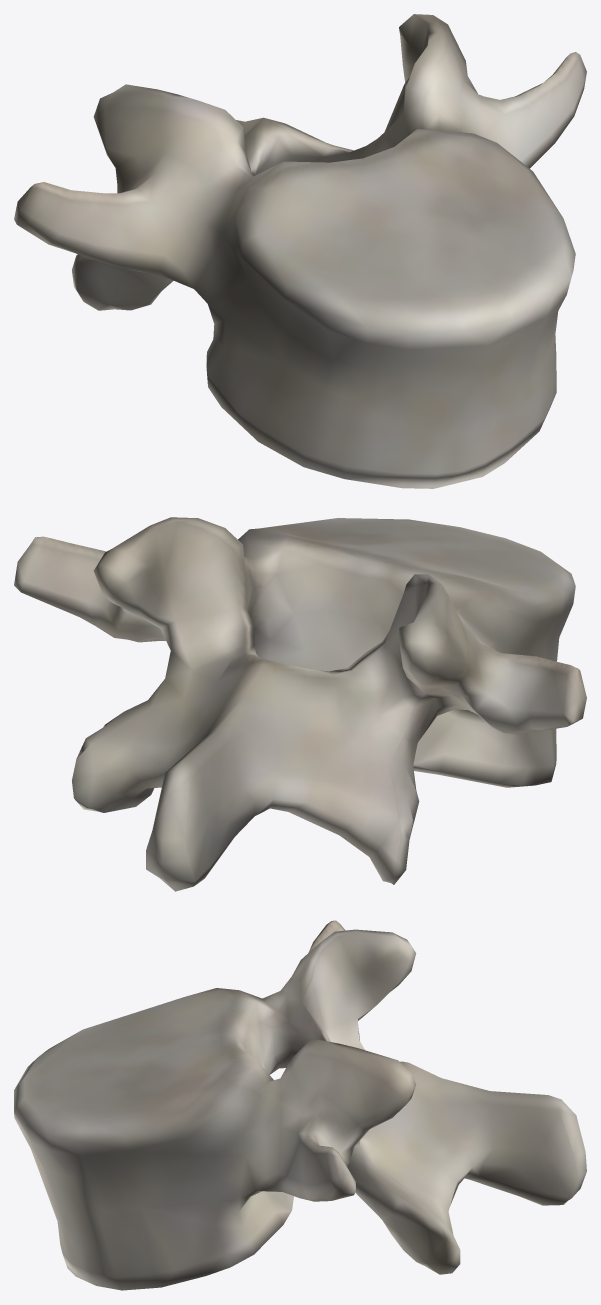
3 views of the same model, one above another, from view 1: azimuth 30°, elevation 25°; view 2: azimuth 150°, elevation 25°; view 3: azimuth 270°, elevation 25° (orthographic). The views are drawn at different scales.
Parts seen in each view (by area): view 1: L4_vertebra; view 2: L4_vertebra; view 3: L4_vertebra.
Boxes of the visible parts, bbox=[...] form: L4_vertebra: bbox=[14, 14, 586, 488]; L4_vertebra: bbox=[14, 517, 586, 891]; L4_vertebra: bbox=[14, 920, 586, 1290].
Size of the model in its own units: 0.0834 by 0.0431 by 0.0833.
1 material, 1 textured.
